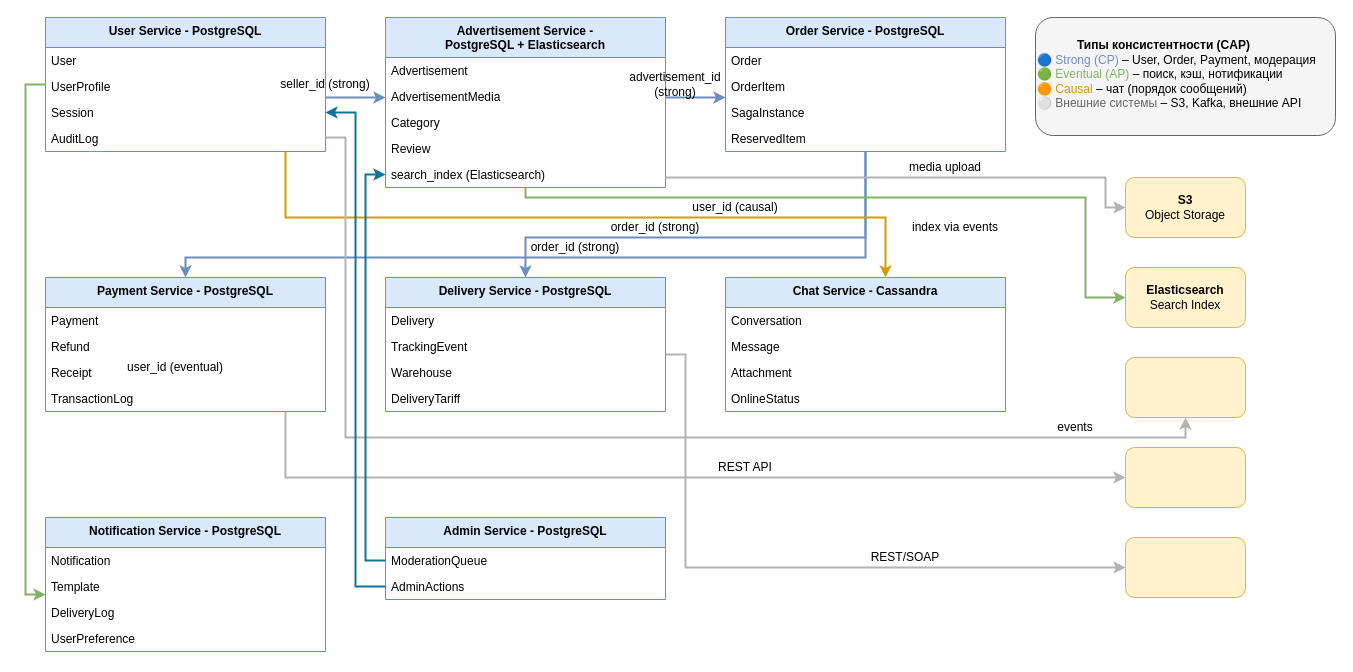
This 1353x672 diagram has some shape labels left out. Here are the shapes that lost their labels. From the top down, the centre of each, then its label:
At point 1185,387: "Kafka Event Bus".
At point 1185,477: "Stripe/Tinkoff Payment Gateways".
At point 1185,567: "СДЭК/Почта Delivery APIs".
